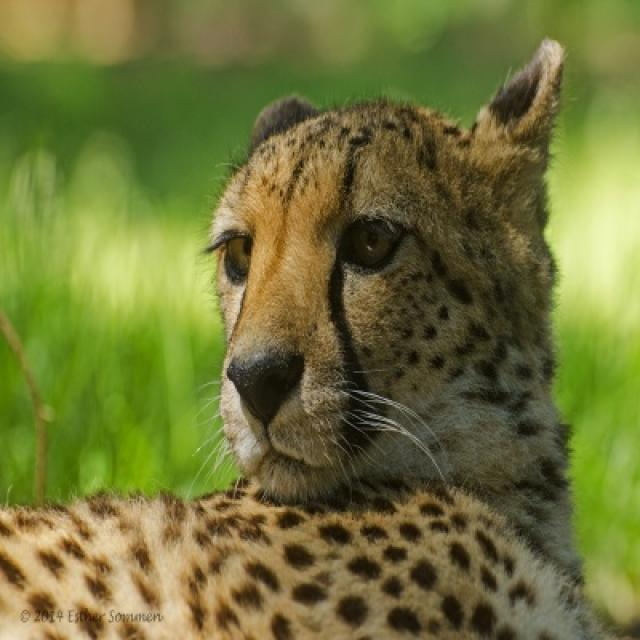Cheetah: (0, 38, 606, 638)
